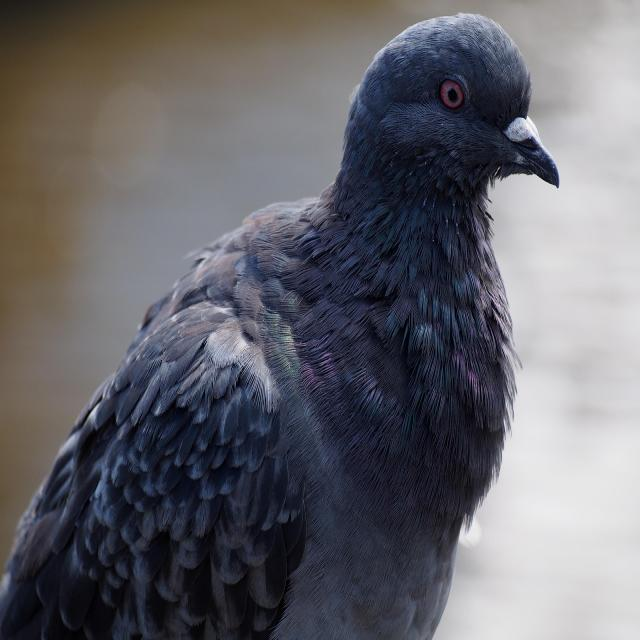pegion: (163, 22, 582, 608)
